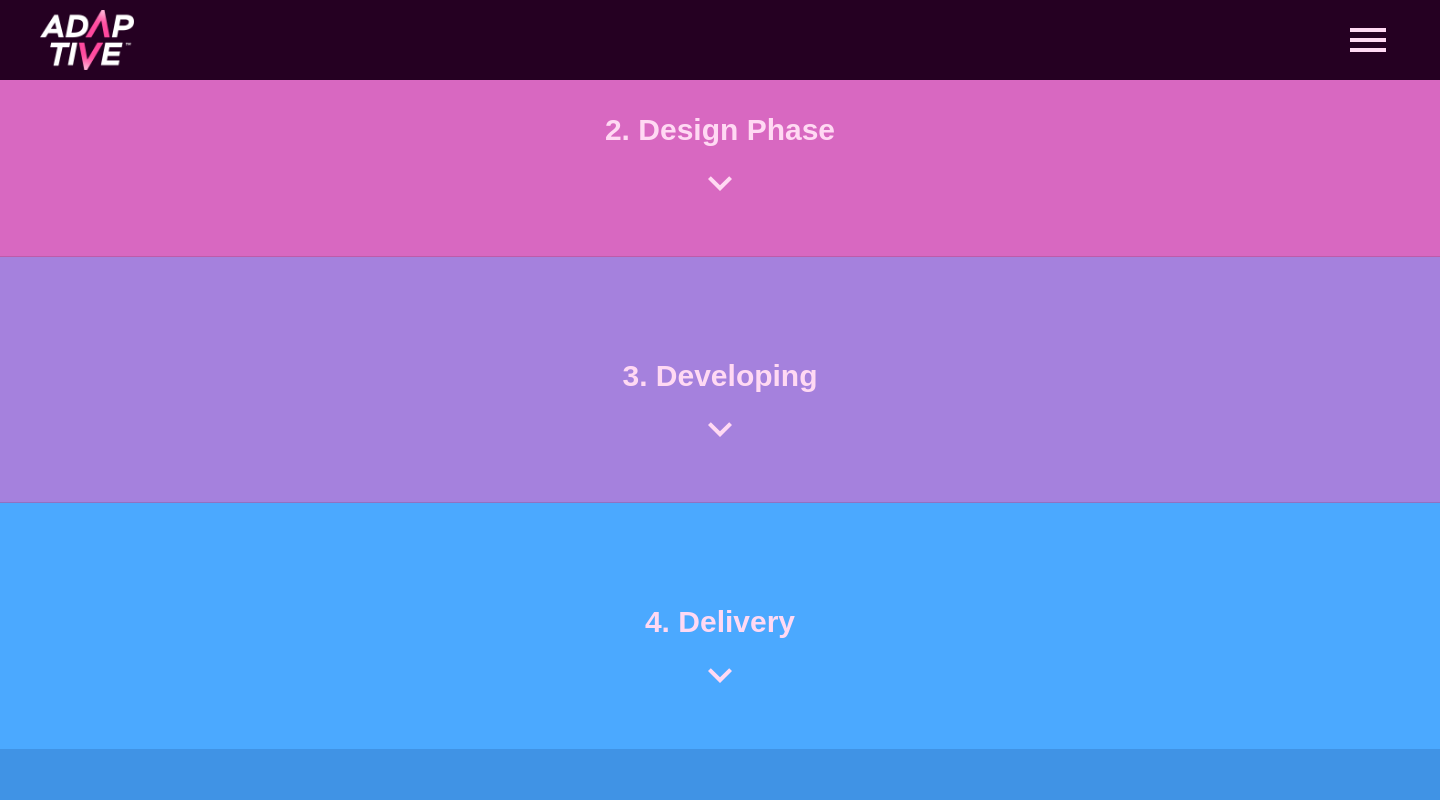
Test case: Vistor can see our process › For macbook-16 view, successfully › is expected to show our process section › is expected to show Developing phase
The image size is (1440, 800).
(page scrolled)
Expected: the heading with test id "heading" reads "3. Developing", left=622, top=359, right=817, bottom=392
Step 1. Click the button with test id "step-3" → [720, 376], box left=607, top=346, right=834, bottom=453
(page scrolled)
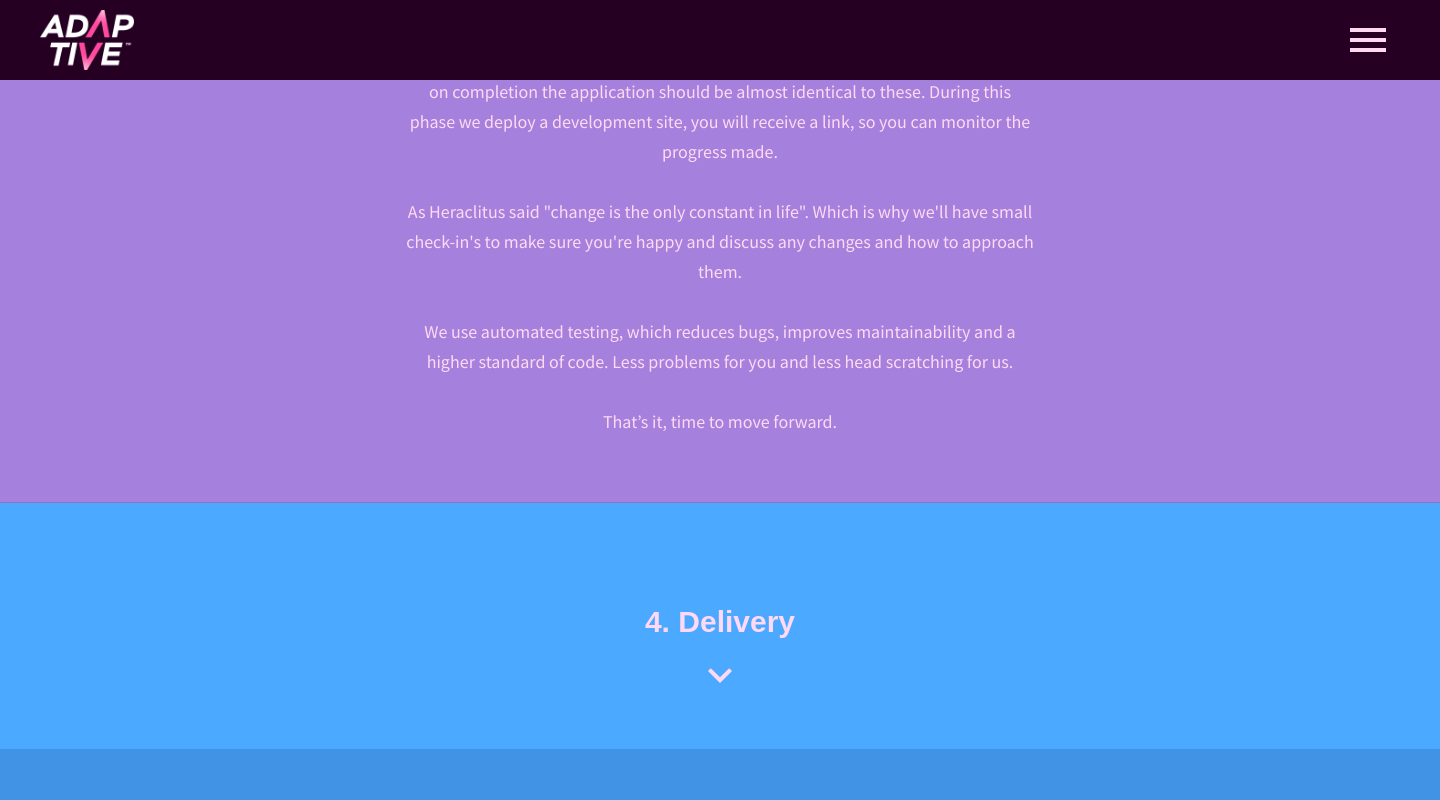
Now the text with test id "body-1" shows "Here is where those designs become reality. We work from the agreed upon", box left=405, top=0, right=1035, bottom=167
Now the text with test id "body-2" shows "As Heraclitus said \"change is the only constant in life\". Which is why", box left=405, top=167, right=1035, bottom=287
Now the text with test id "body-3" shows "We use automated testing, which reduces bugs, improves maintainability and a higher standard of code. Less problems for you and less head scratching for us", box left=424, top=320, right=1015, bottom=373
